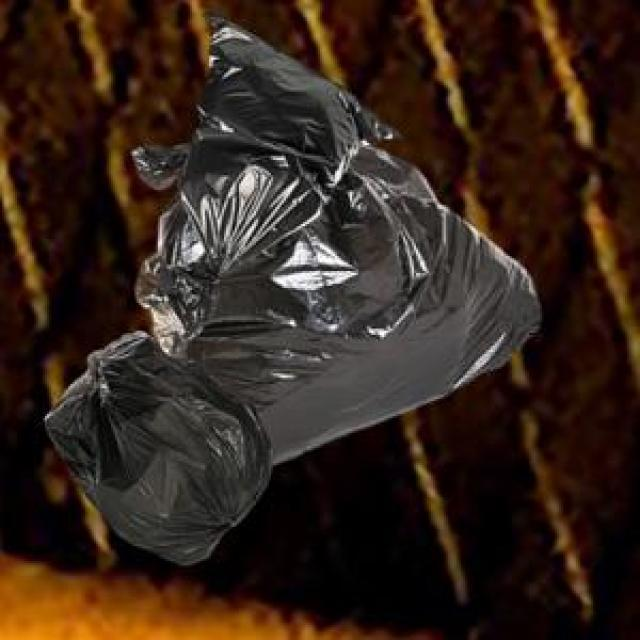waste: (147, 305, 186, 356)
